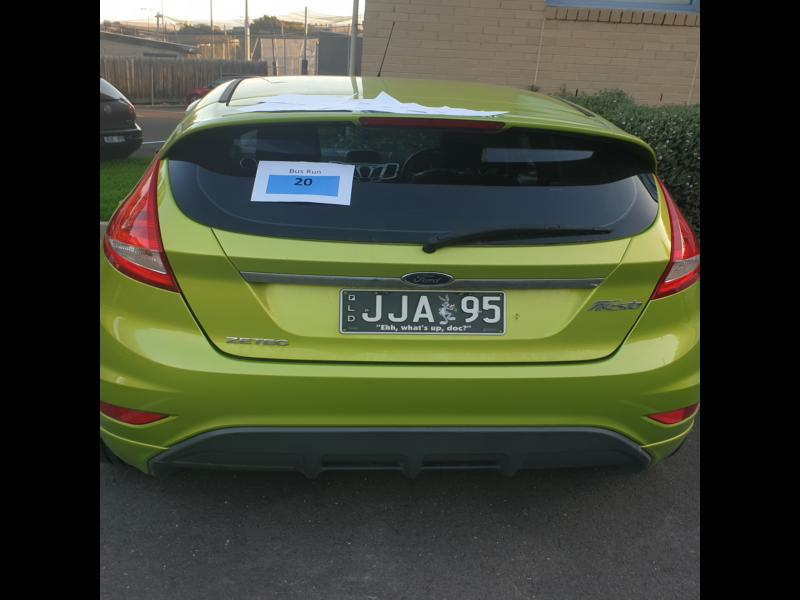BusRun: (268, 173, 341, 198)
PlateNo: (342, 287, 504, 334)
